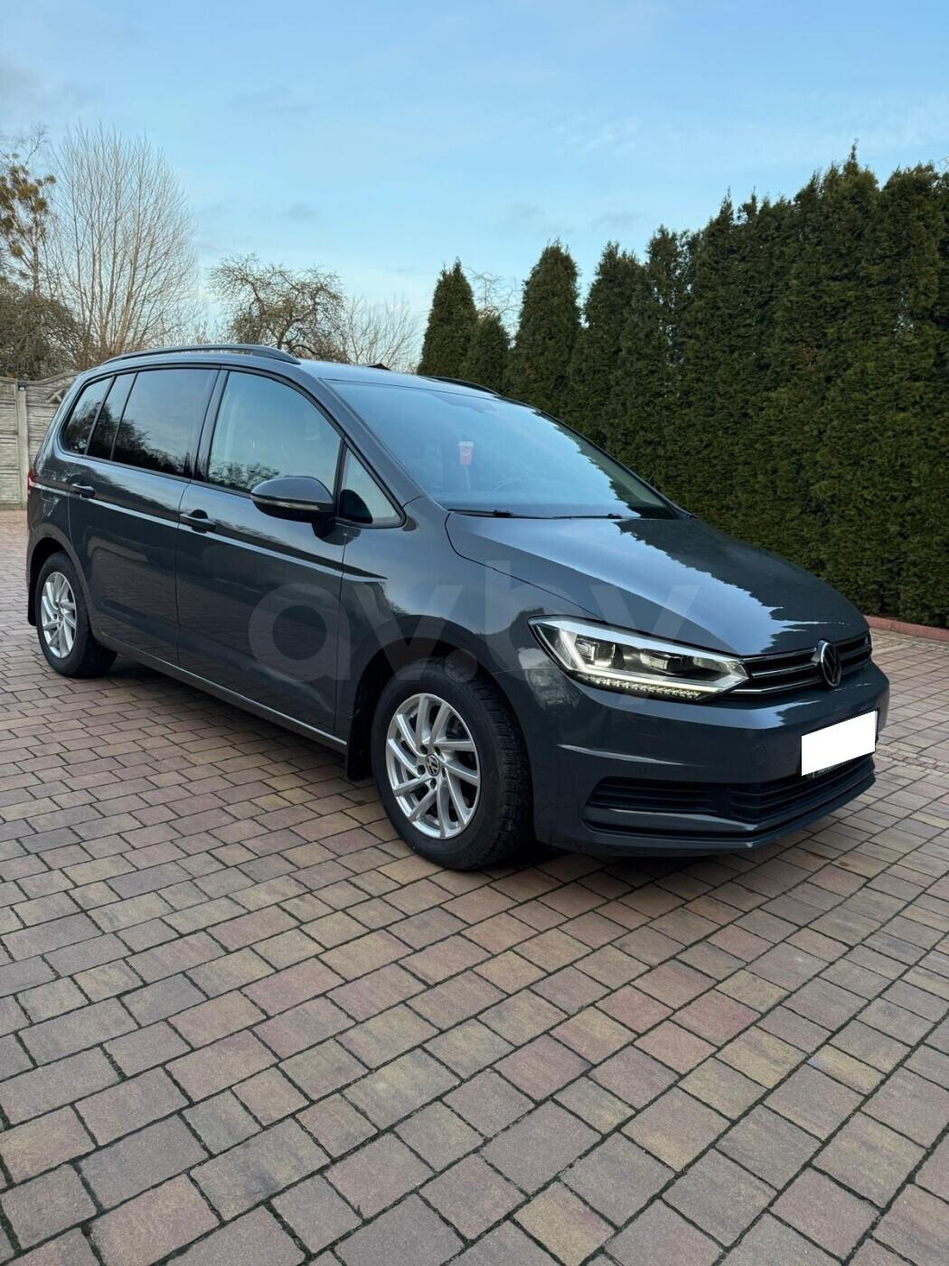Touran_2015: (20, 345, 893, 881)
